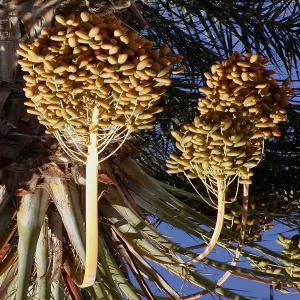palm tree: (1, 1, 299, 299)
